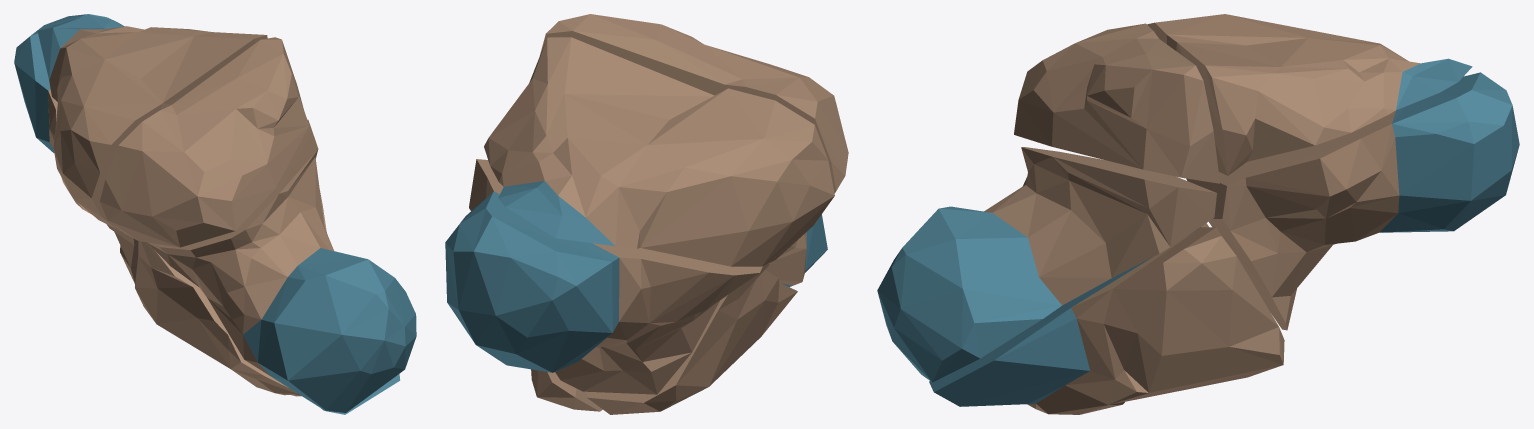
The model's file is SM_LP_Mineral_6_Pieces.fbx.
3 renders of one model, left to right at view 1: azimuth 30°, elevation 25°; view 2: azimuth 150°, elevation 25°; view 3: azimuth 270°, elevation 25°, orthographic. The views are drawn at different scales.
Visible parts, largest first — view 1: SM_LP_Mineral_6_Piece_1, SM_LP_Mineral_6_Piece_4, SM_LP_Mineral_6_Piece_5, SM_LP_Mineral_6_Piece_6, SM_LP_Mineral_6_Piece_3, SM_LP_Mineral_6_Piece_2; view 2: SM_LP_Mineral_6_Piece_5, SM_LP_Mineral_6_Piece_3, SM_LP_Mineral_6_Piece_4, SM_LP_Mineral_6_Piece_6, SM_LP_Mineral_6_Piece_1, SM_LP_Mineral_6_Piece_2; view 3: SM_LP_Mineral_6_Piece_1, SM_LP_Mineral_6_Piece_3, SM_LP_Mineral_6_Piece_2, SM_LP_Mineral_6_Piece_5, SM_LP_Mineral_6_Piece_4.
Part boxes in pixels (x1,y1,x2,y2): SM_LP_Mineral_6_Piece_1: [148, 120, 416, 412]; SM_LP_Mineral_6_Piece_4: [99, 37, 309, 247]; SM_LP_Mineral_6_Piece_5: [37, 15, 267, 230]; SM_LP_Mineral_6_Piece_6: [135, 241, 298, 395]; SM_LP_Mineral_6_Piece_3: [14, 14, 138, 283]; SM_LP_Mineral_6_Piece_2: [291, 191, 400, 414]; SM_LP_Mineral_6_Piece_5: [484, 37, 834, 266]; SM_LP_Mineral_6_Piece_3: [445, 159, 762, 394]; SM_LP_Mineral_6_Piece_4: [540, 14, 848, 222]; SM_LP_Mineral_6_Piece_6: [587, 263, 797, 414]; SM_LP_Mineral_6_Piece_1: [765, 214, 827, 286]; SM_LP_Mineral_6_Piece_2: [531, 369, 602, 411]; SM_LP_Mineral_6_Piece_1: [877, 147, 1216, 382]; SM_LP_Mineral_6_Piece_3: [1186, 72, 1519, 330]; SM_LP_Mineral_6_Piece_2: [929, 227, 1284, 414]; SM_LP_Mineral_6_Piece_5: [1147, 14, 1472, 175]; SM_LP_Mineral_6_Piece_4: [1014, 23, 1219, 183].
Size of the model in its own units: 0.6868 by 0.8083 by 1.34.
